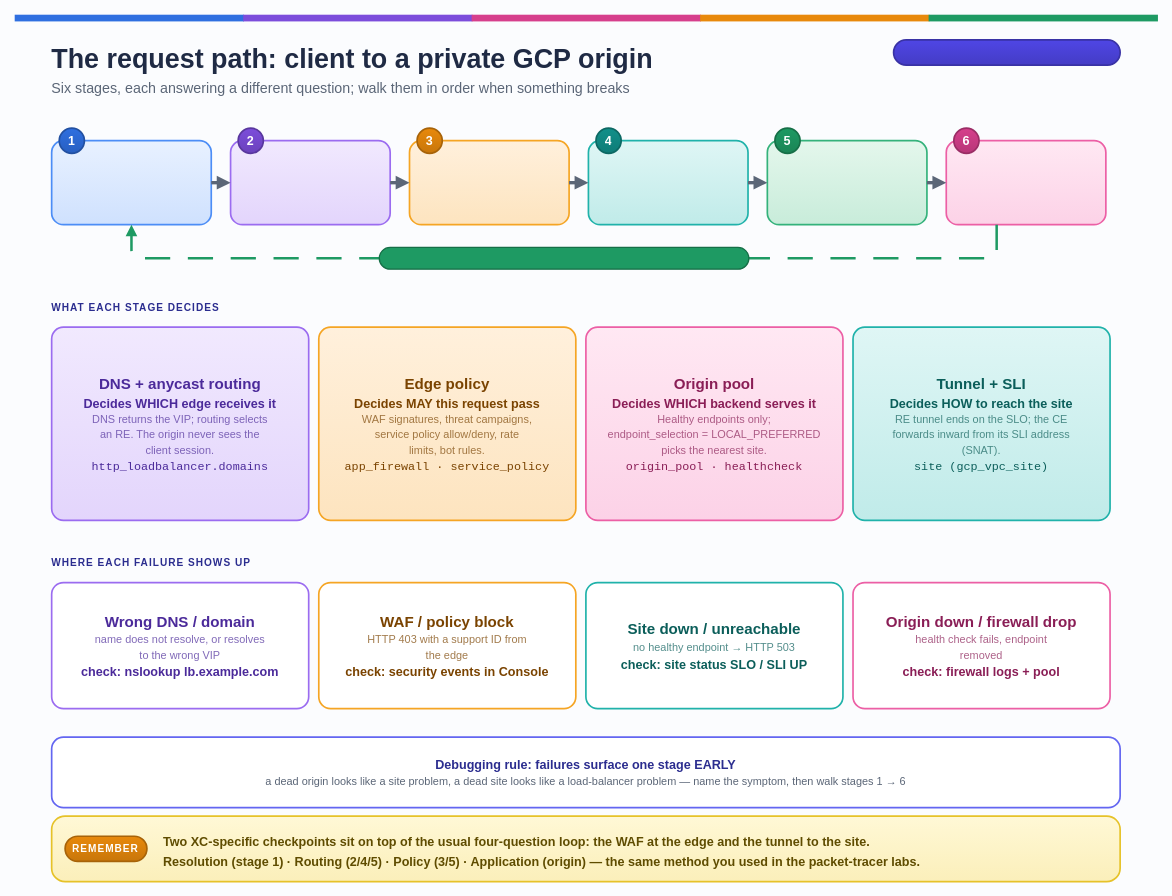
This 1172x896 diagram has some shape labels left out. The box of each missing label's shape, as (x1, y1, x2, y2) in pixels:
6 · return path: response retraces the same tunnel: (378, 246, 749, 269)
Client browser → lb.example.com: (50, 139, 212, 225)
Customer Edge SLI → private origin: (766, 139, 927, 225)
DNS resolves to anycast VIP: (229, 139, 391, 225)
Origin 10.200.0.10:80: (945, 139, 1106, 225)
RE → CE tunnel encrypted, no public path: (587, 139, 748, 225)
Regional Edge TLS · WAF · pick origin: (408, 139, 570, 225)
STAGE 18 · TRAFFIC & SECURITY: (892, 39, 1121, 66)
